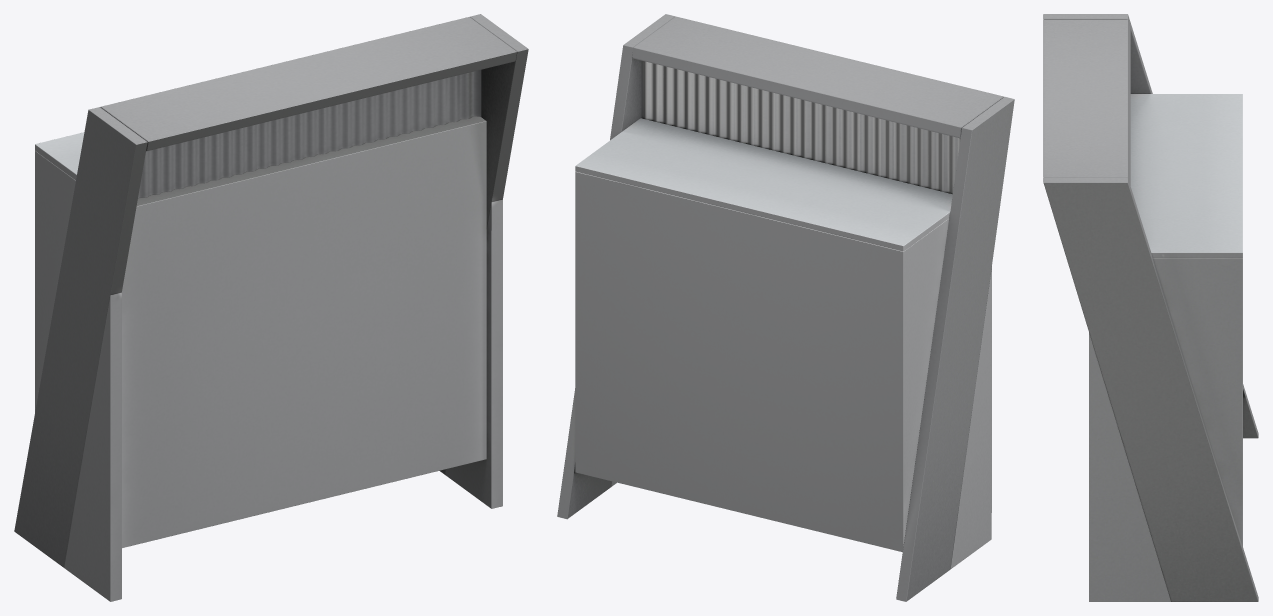
Rendered from infocounter.glb.
3 renders of one model, left to right at view 1: azimuth 30°, elevation 25°; view 2: azimuth 150°, elevation 25°; view 3: azimuth 270°, elevation 25°, orthographic. The views are drawn at different scales.
Visible parts, largest first — view 1: infocounter-grey; view 2: infocounter-grey; view 3: infocounter-grey.
Boxes of the visible parts, x1=… form: infocounter-grey: x1=14, y1=14, x2=528, y2=601; infocounter-grey: x1=557, y1=14, x2=1014, y2=601; infocounter-grey: x1=1043, y1=14, x2=1258, y2=601.
Bounding box in the file's own units: 0.948 × 1.1 × 0.5105.
1 material, 1 textured.
